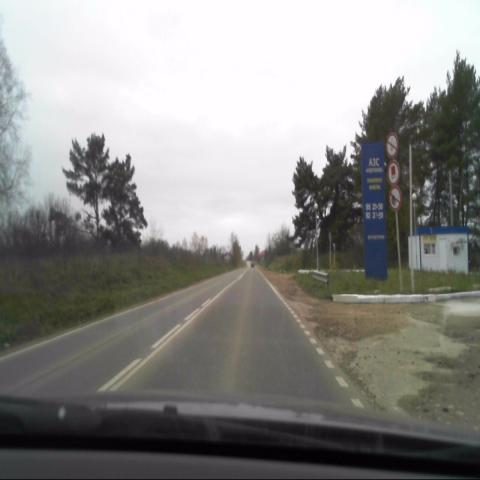3_32: (387, 159, 400, 186)
